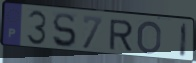3: (25, 9, 48, 47)
7: (82, 14, 105, 50)
I: (178, 22, 189, 60)
O: (136, 19, 163, 55)
R: (108, 19, 135, 52)
S: (52, 12, 78, 49)
